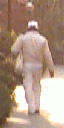person: (15, 18, 48, 119)
